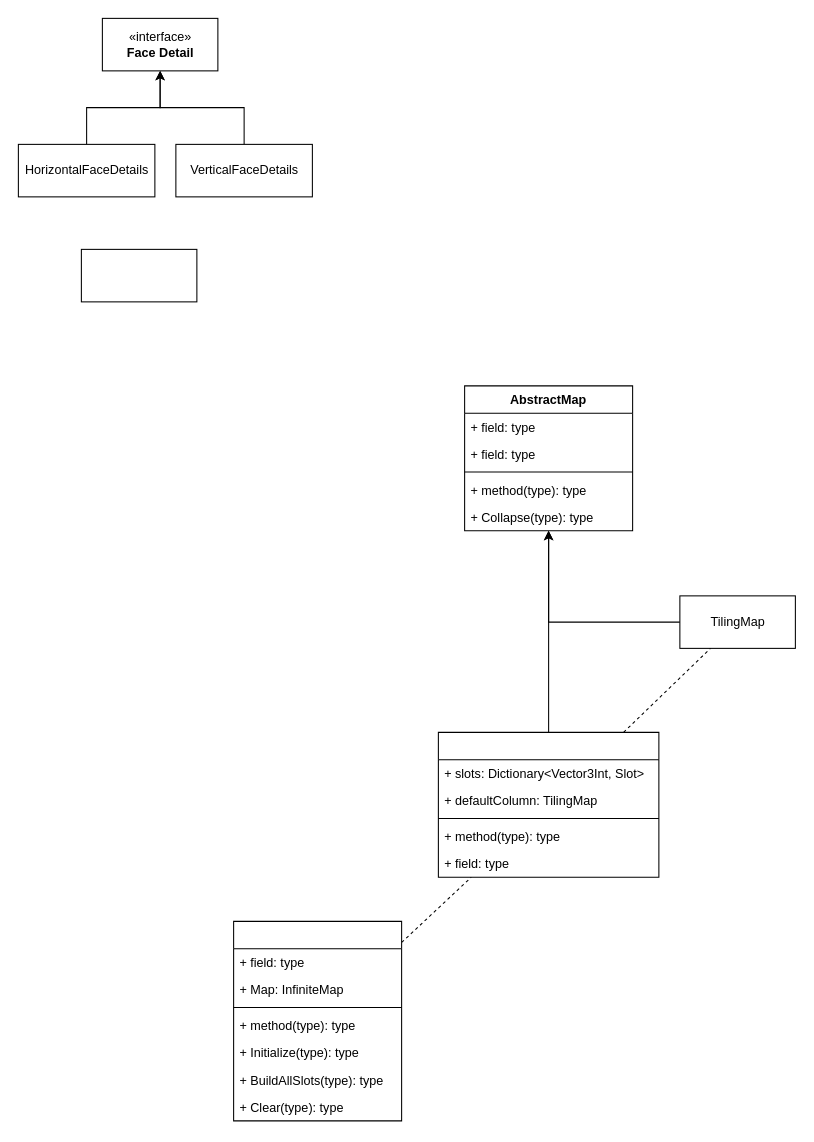
This 814x1142 diagram has some shape labels left out. Here are the shapes that lost their labels. From the top down, the box of each, then its label:
(80, 248, 197, 302): Module Prototype
(437, 731, 659, 877): InfiniteMap
(233, 920, 402, 1121): MapBehaviour
